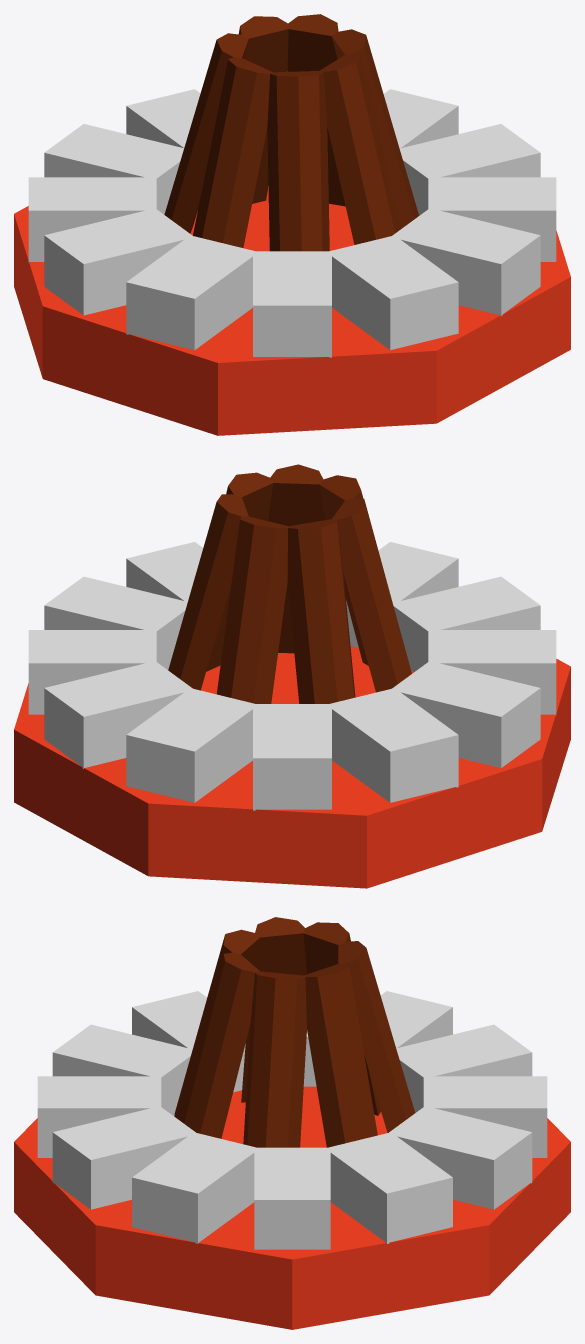
File: bonfire_4.FBX
3 renders of one model, top to bottom at view 1: azimuth 30°, elevation 25°; view 2: azimuth 150°, elevation 25°; view 3: azimuth 270°, elevation 25°, orthographic. The views are drawn at different scales.
Visible parts, largest first — view 1: bonfire_4; view 2: bonfire_4; view 3: bonfire_4.
Boxes of the visible parts, bbox=[...] form: bonfire_4: bbox=[14, 14, 570, 435]; bonfire_4: bbox=[14, 464, 570, 888]; bonfire_4: bbox=[14, 917, 570, 1329].
Bounding box in the file's own units: 1.58 × 0.8292 × 1.58.
Materials: 1 (1 with a texture image).
